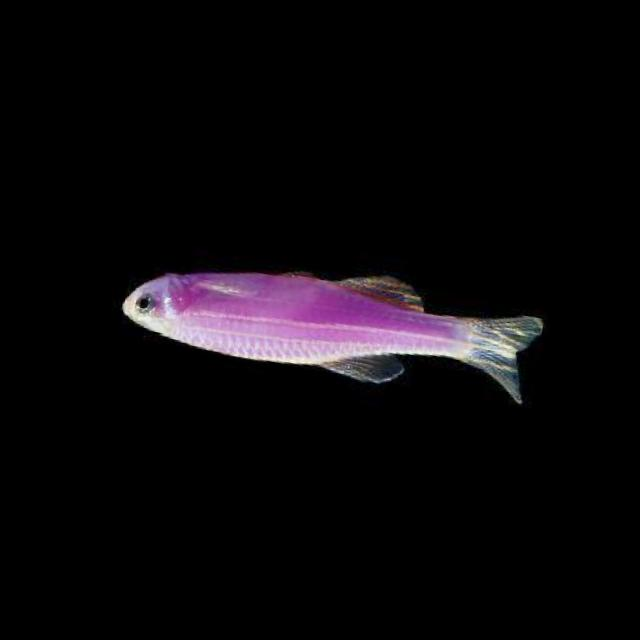ZebraFish: (110, 232, 546, 420)
